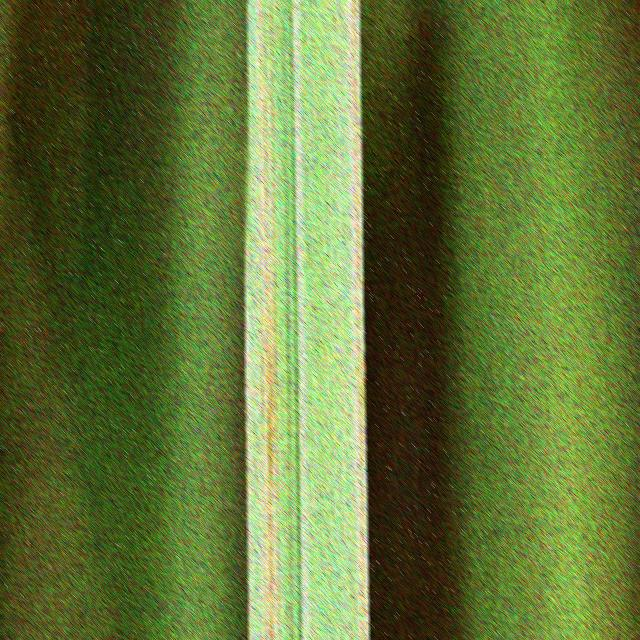BLS: (257, 0, 281, 640), (348, 0, 369, 640), (282, 0, 293, 640)
